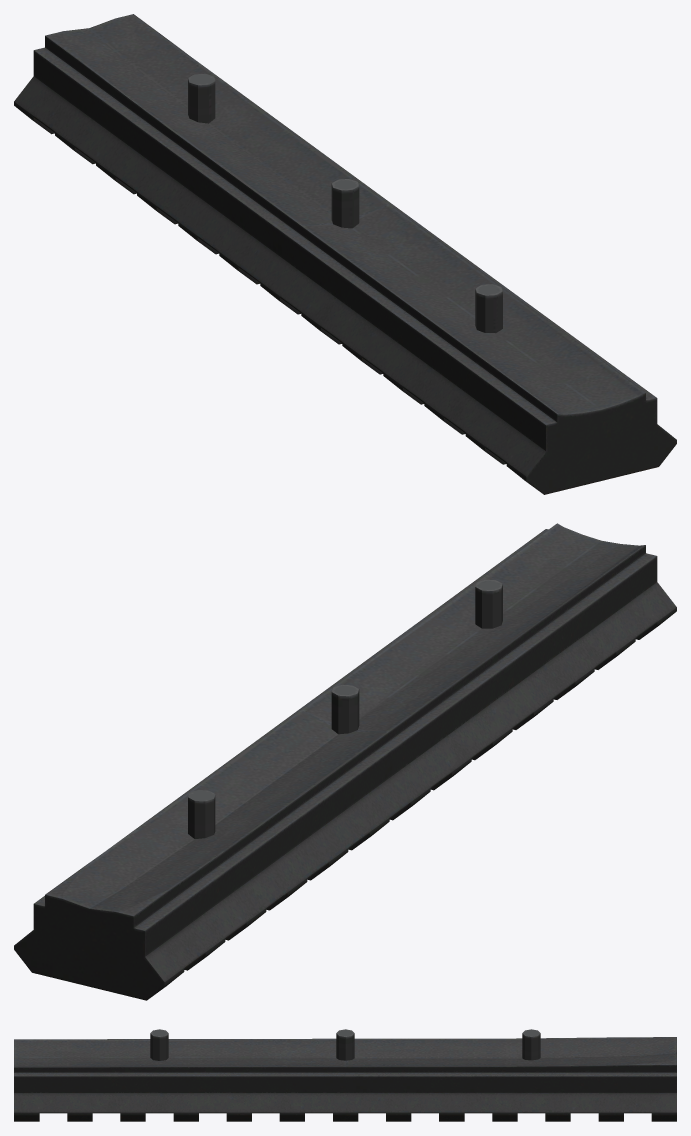
The picture shows the model from 3 angles, top to bottom: view 1: azimuth 30°, elevation 25°; view 2: azimuth 150°, elevation 25°; view 3: azimuth 270°, elevation 25°; orthographic projection. The views are drawn at different scales.
Parts seen in each view (by area): view 1: TW_653ed19d22e1ef3d9002c328_PZ_Import; view 2: TW_653ed19d22e1ef3d9002c328_PZ_Import; view 3: TW_653ed19d22e1ef3d9002c328_PZ_Import.
Part boxes in pixels (x1=…): TW_653ed19d22e1ef3d9002c328_PZ_Import: x1=14, y1=14, x2=676, y2=494; TW_653ed19d22e1ef3d9002c328_PZ_Import: x1=14, y1=523, x2=676, y2=1000; TW_653ed19d22e1ef3d9002c328_PZ_Import: x1=14, y1=1029, x2=676, y2=1121.
Size of the model in its own units: 0.0123 by 0.0722 by 0.00845.
Materials: 1 (1 with a texture image).
